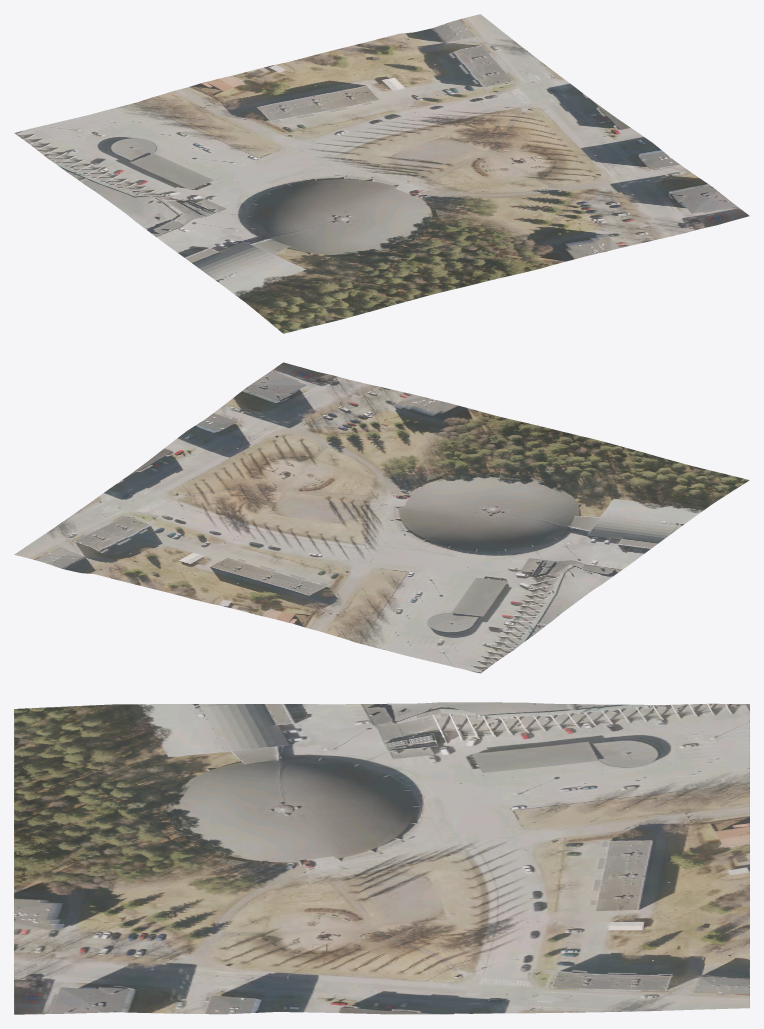
File: CM_Terrain_24490663_6820613.fbx
3 renders of one model, top to bottom at view 1: azimuth 30°, elevation 25°; view 2: azimuth 150°, elevation 25°; view 3: azimuth 270°, elevation 25°, orthographic. The views are drawn at different scales.
Visible parts, largest first — view 1: CM_Terrain_24490663_6820613_LOD0; view 2: CM_Terrain_24490663_6820613_LOD0; view 3: CM_Terrain_24490663_6820613_LOD0.
Part boxes in pixels (left/top/right/bottom): CM_Terrain_24490663_6820613_LOD0: left=14, top=14, right=749, bottom=333; CM_Terrain_24490663_6820613_LOD0: left=14, top=362, right=749, bottom=673; CM_Terrain_24490663_6820613_LOD0: left=14, top=702, right=749, bottom=1014.
Size of what is drawn, in the model's own units: 205 by 6.5 by 205.
